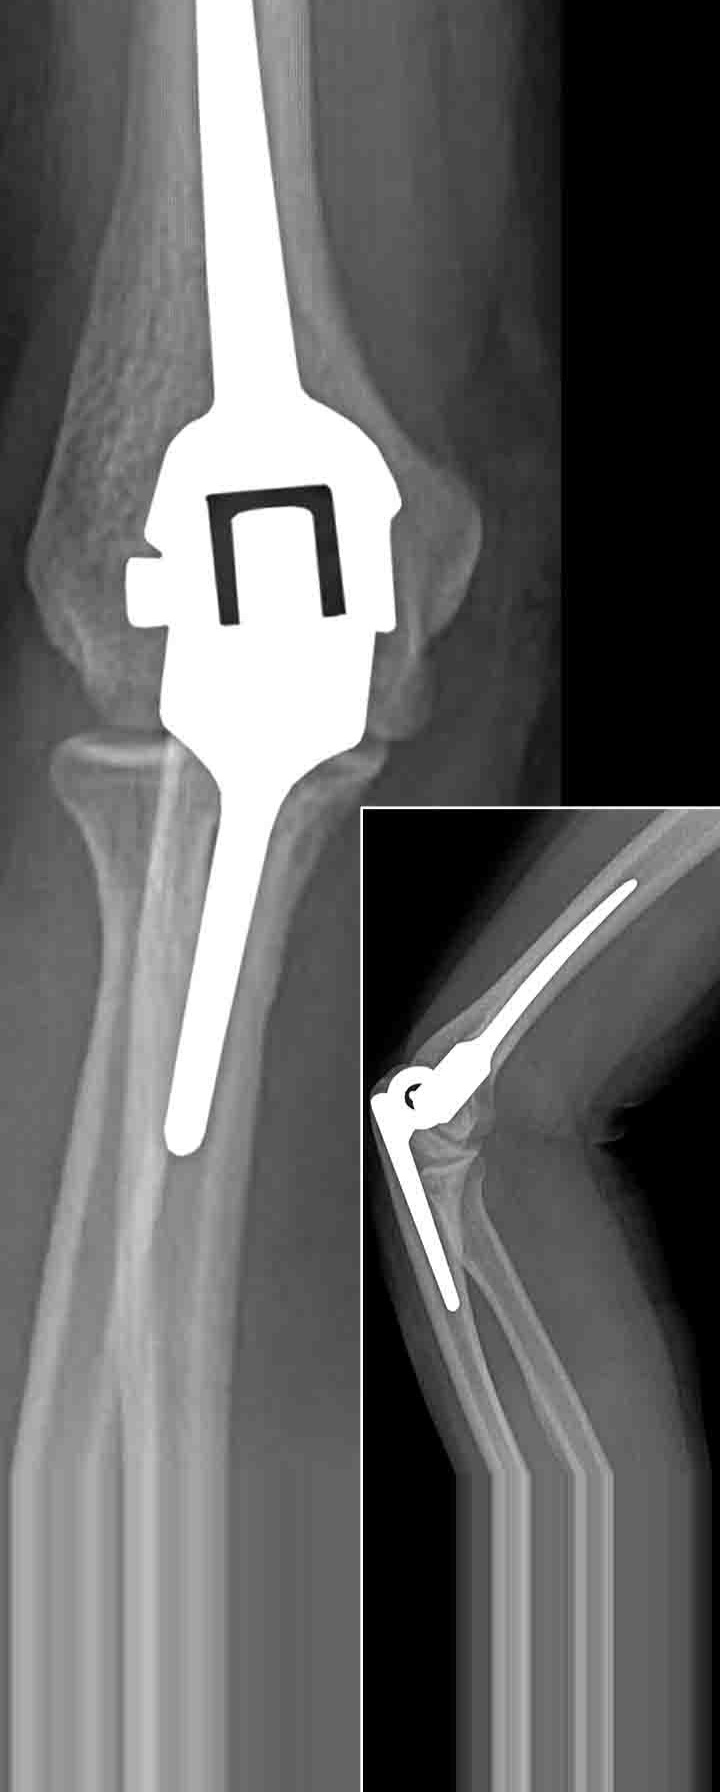Elbow - Osteonics - Stryker: (88, 1, 429, 1009), (365, 850, 661, 1325)
